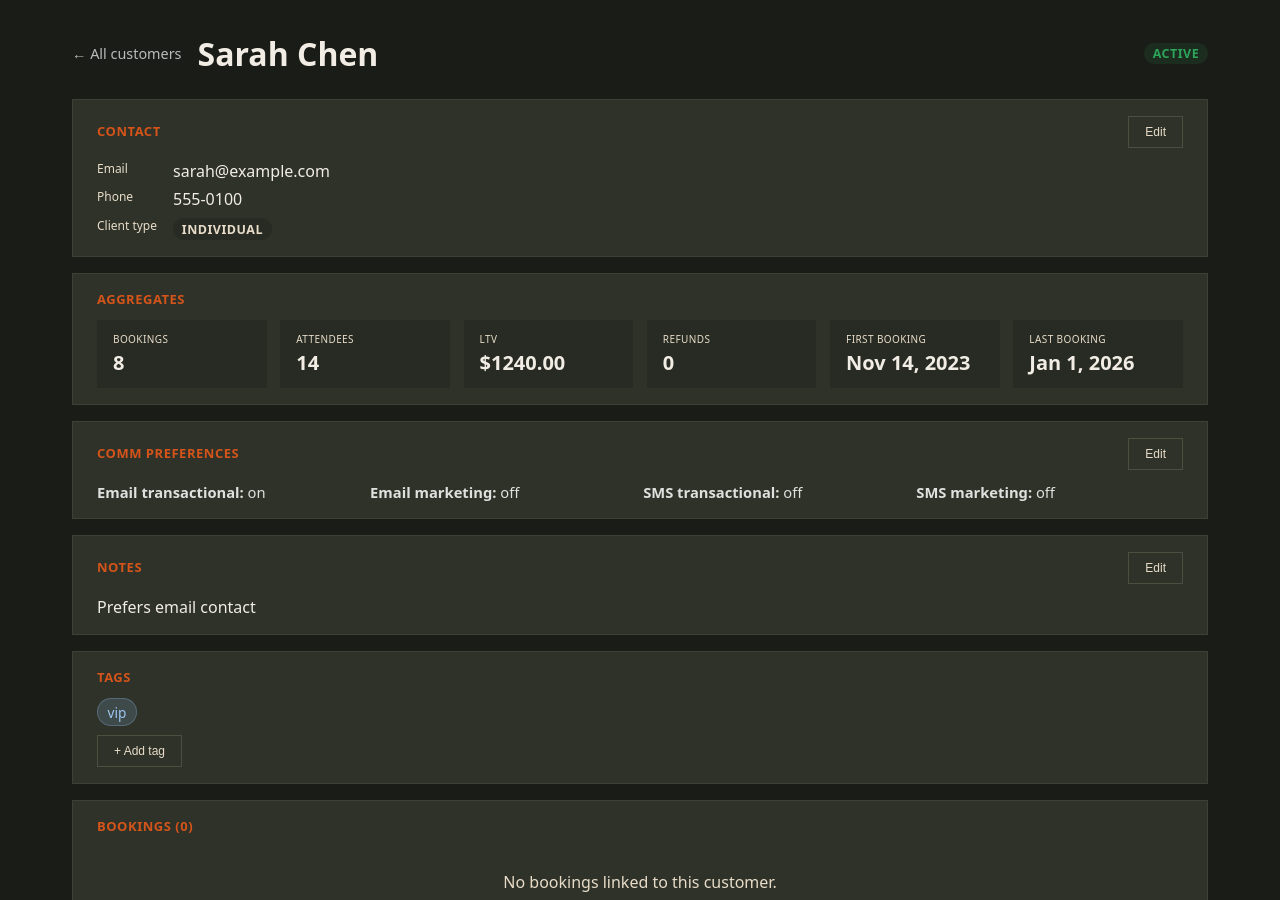
Test: AdminCustomerDetail — consent ceremony › opting IN reveals the reason field and blocks an empty submit client-side
The image size is (1280, 900).
Check: the heading "Comm preferences" is shown, box [97,444,239,462]
Click the button with aria-label "Edit comm preferences".
click(1156, 454)  # box [1128,438,1183,470]
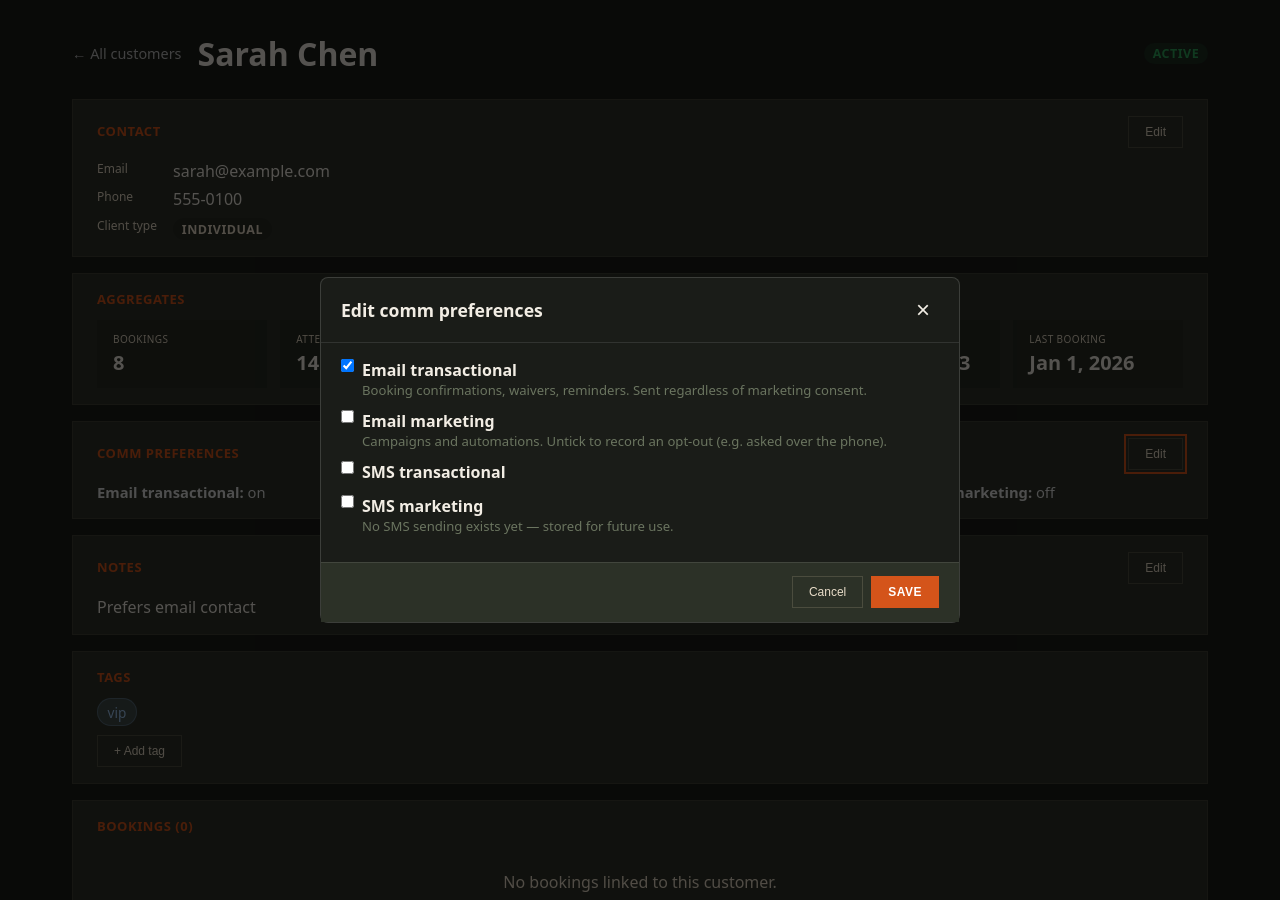
Check: the heading "Edit comm preferences" is shown, box [341,298,543,322]
Click the checkbox labelled "Email marketing".
click(348, 417)  # box [341,410,354,423]
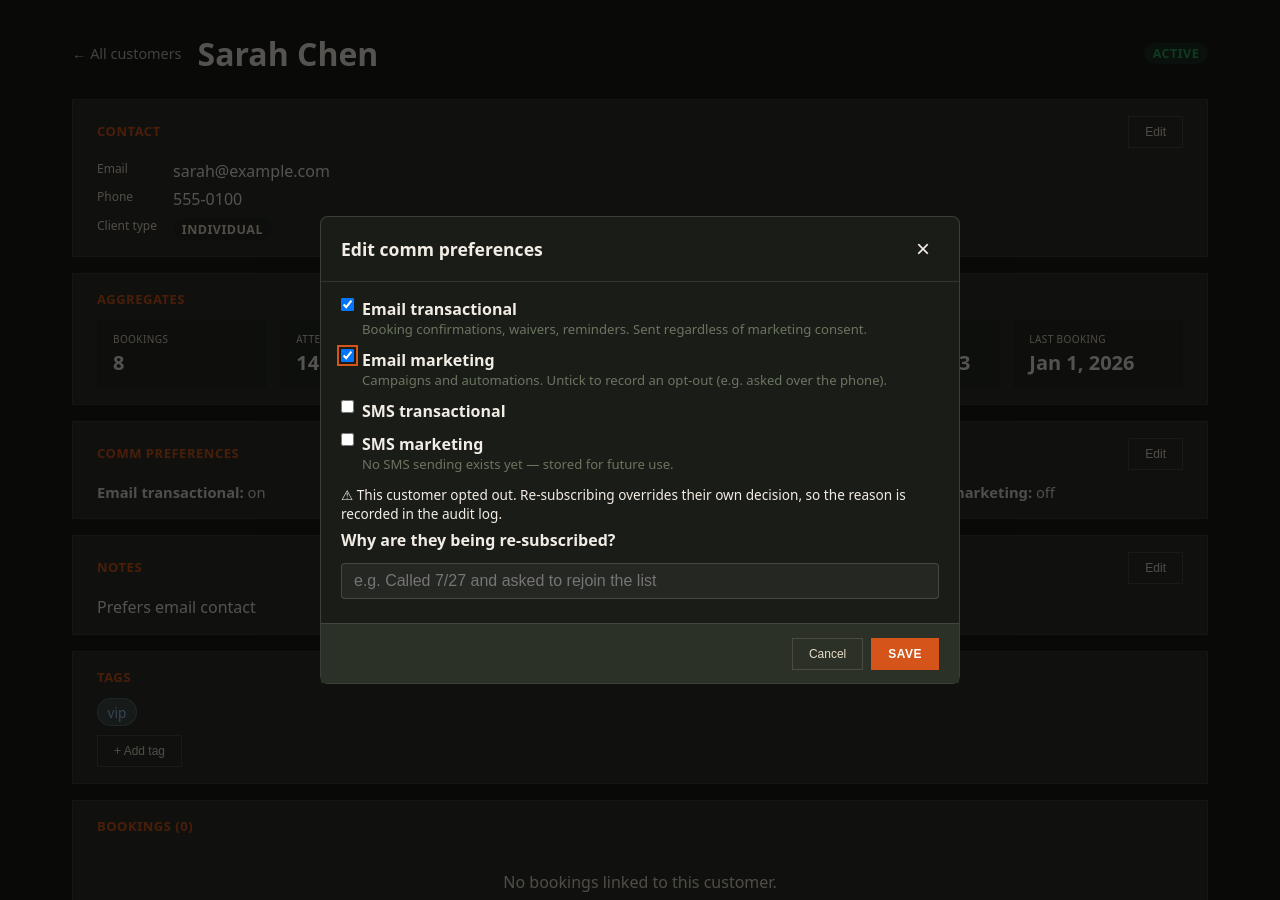
Check: the field labelled "Why are they being re-subscribed?" is shown, box [341,563,939,599]
Click the button "Save".
click(905, 654)  # box [871,638,939,670]
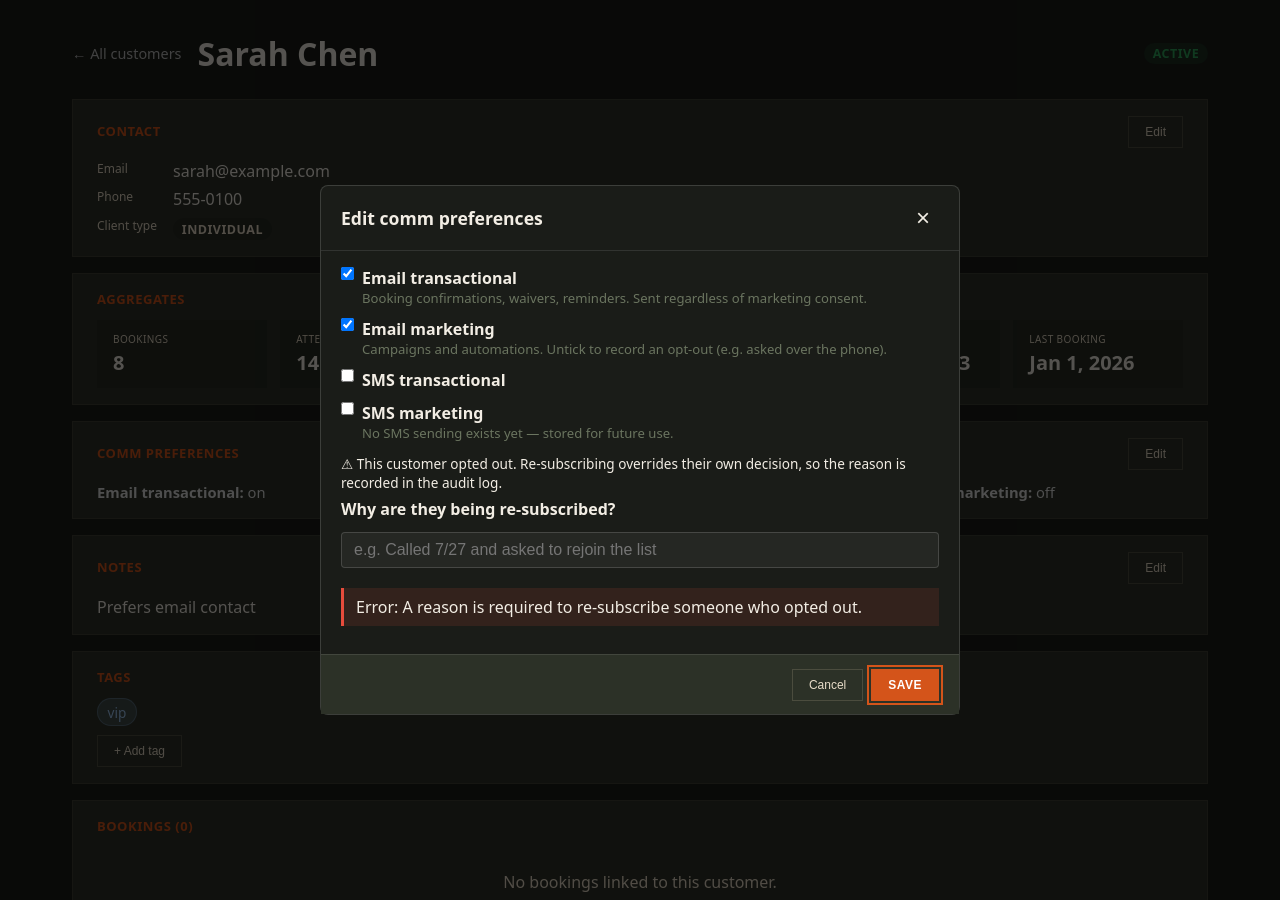
Check: the text "A reason is required to re-subscribe" is shown, box [402,596,862,618]
